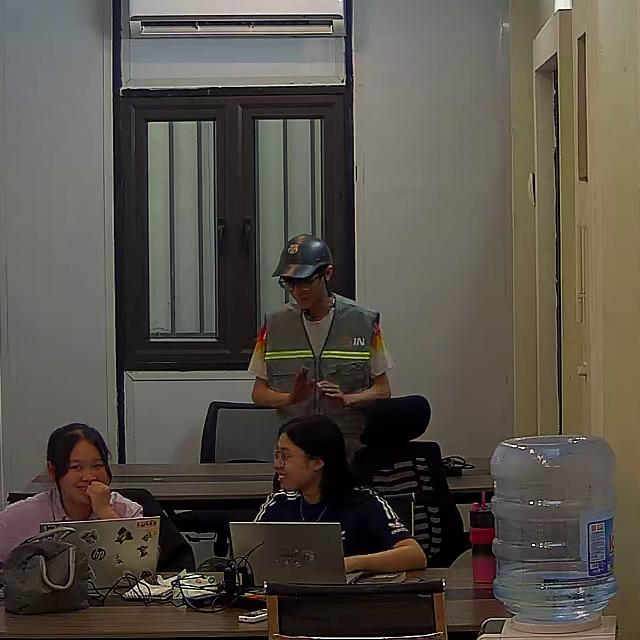helmet: (270, 233, 334, 279)
no_helmet: (276, 416, 356, 501), (46, 423, 111, 498)
none: (250, 484, 416, 564), (0, 487, 145, 572)
vest: (257, 296, 383, 384)
